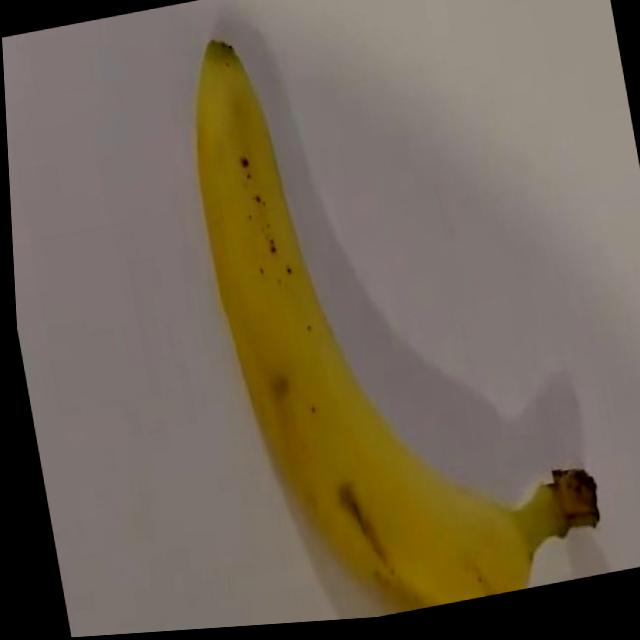Banana: (171, 0, 605, 631)
